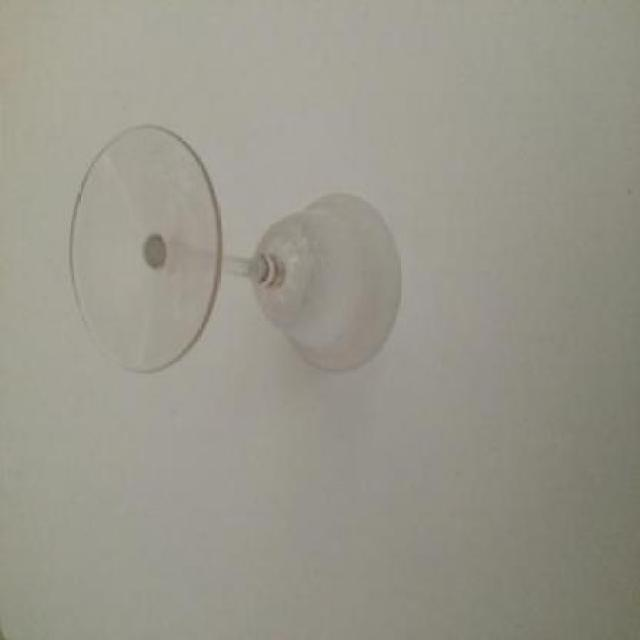kaca: (70, 122, 398, 370)
